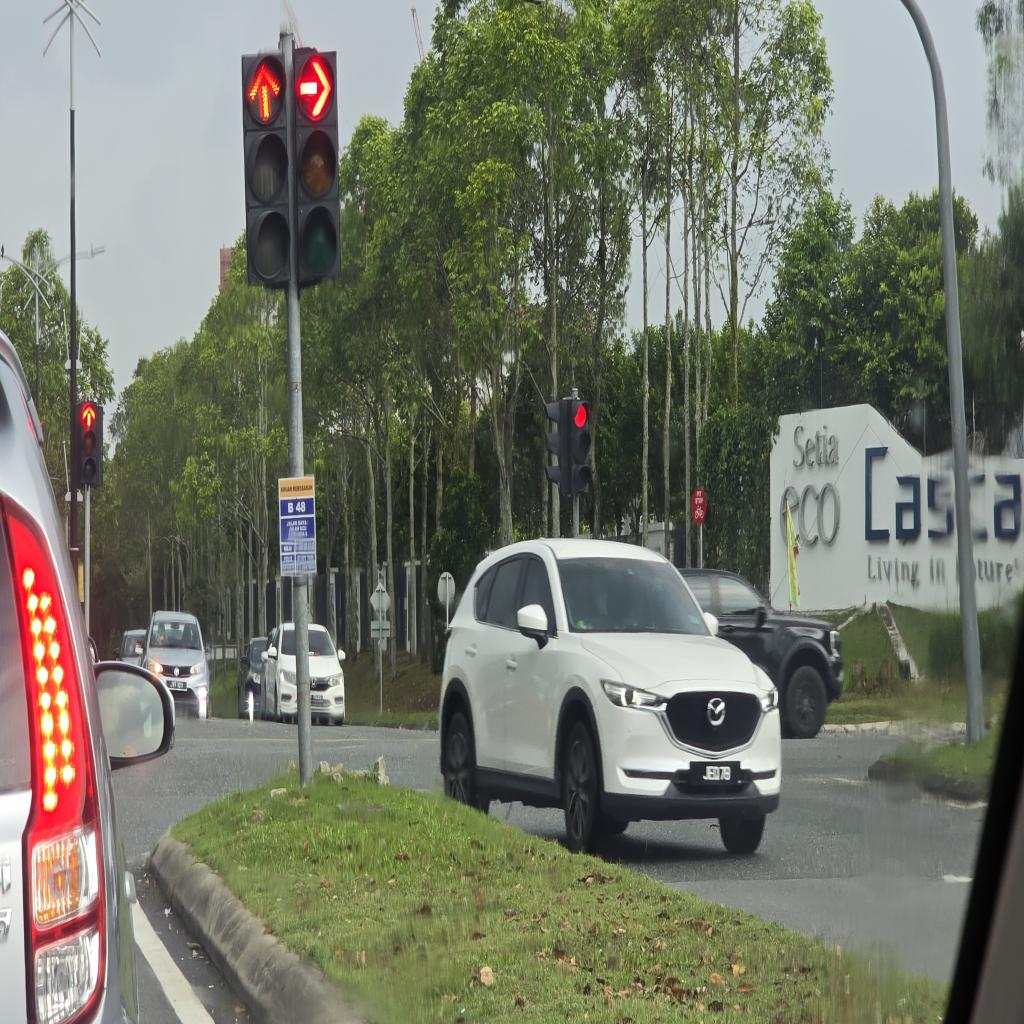car: (440, 540, 781, 852)
car plate: (690, 762, 741, 786)
